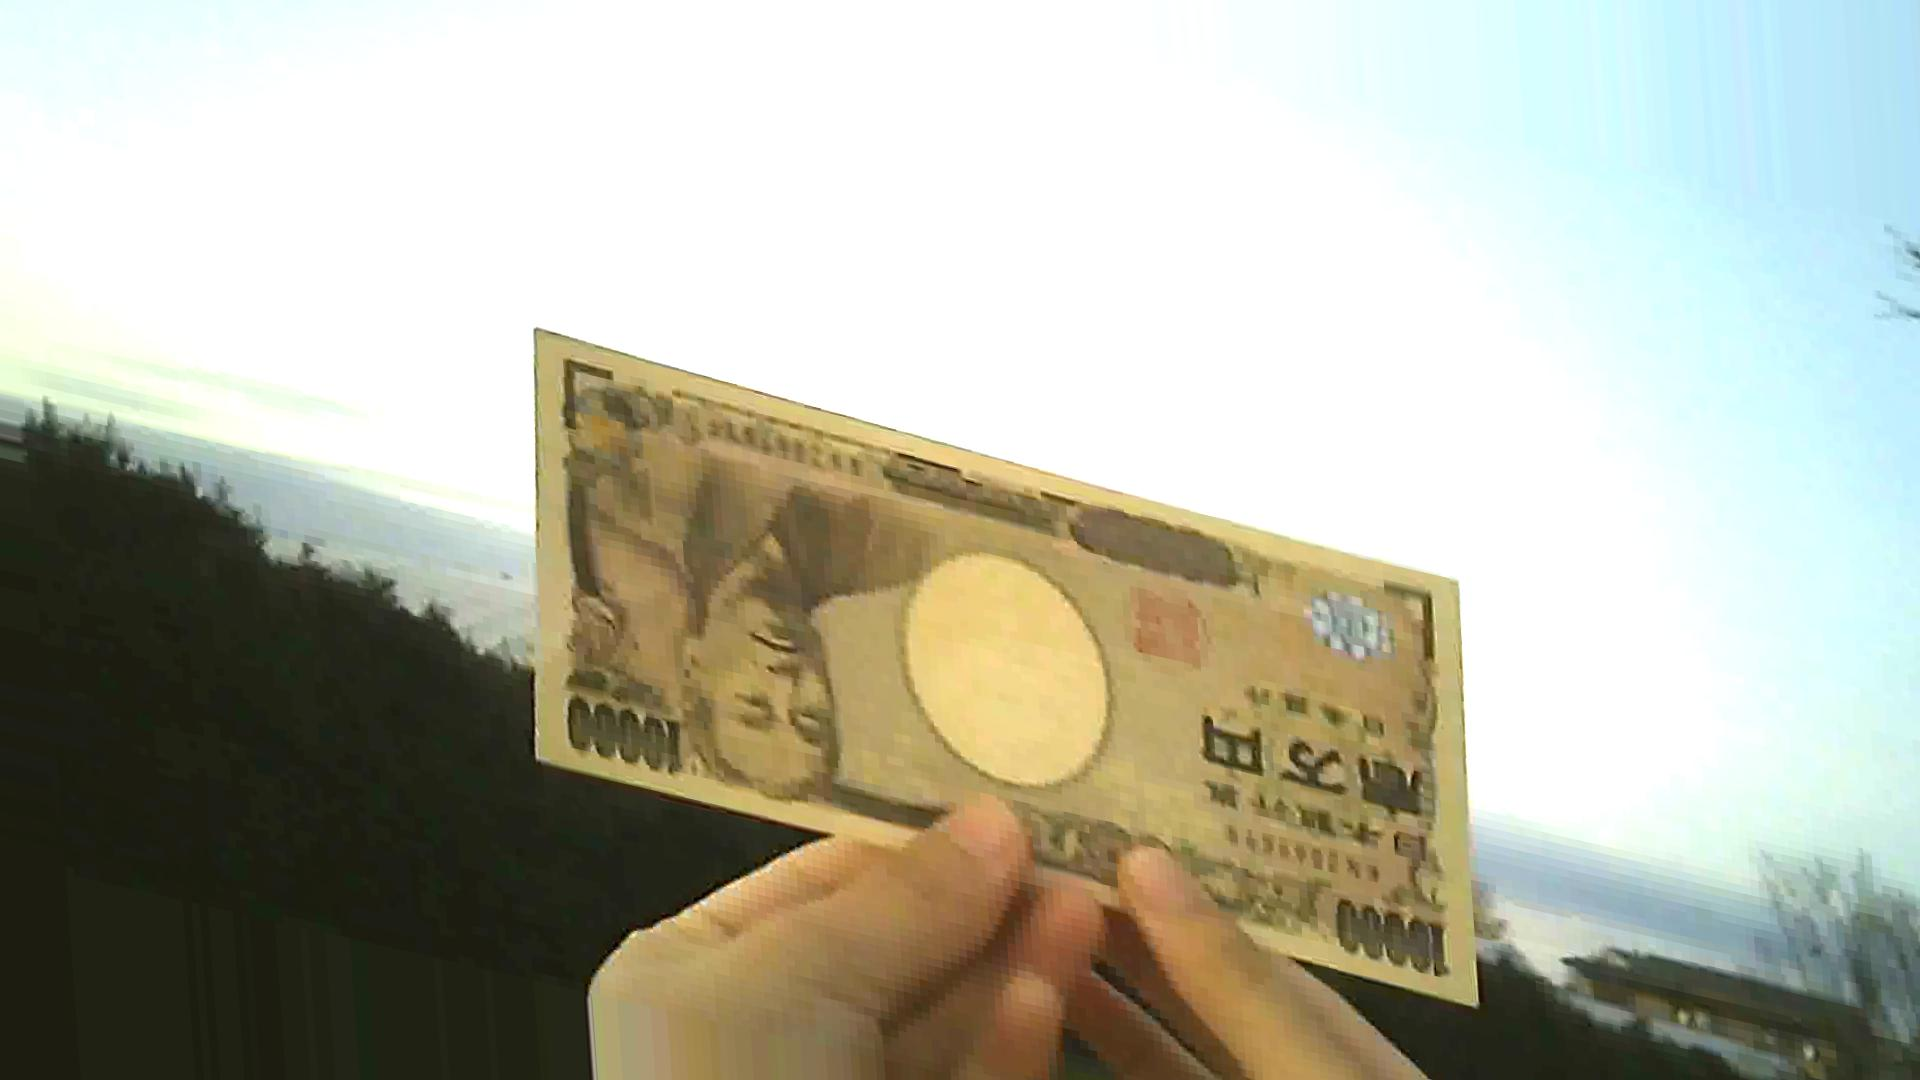10,000 Yen: (502, 310, 1519, 1025)
